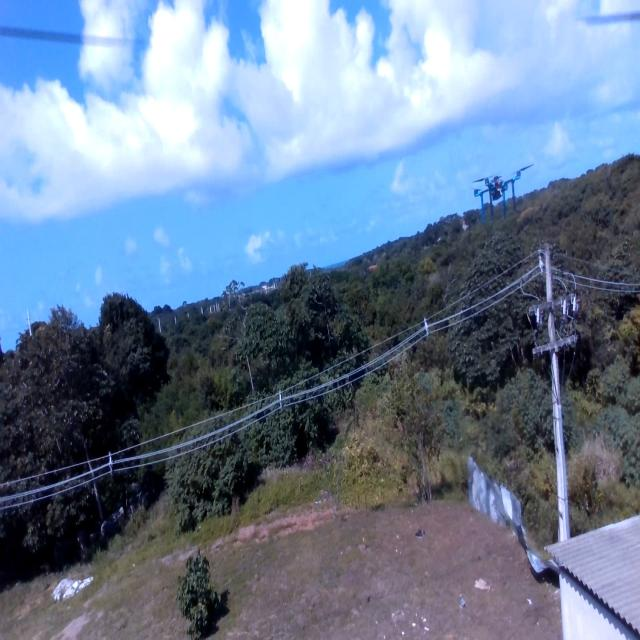-uav-: (464, 154, 536, 237)
